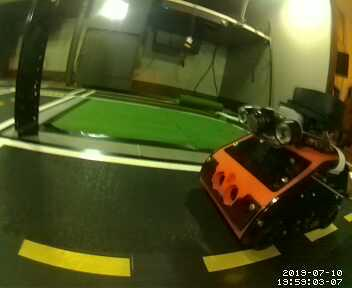pheeno: (201, 83, 352, 250)
